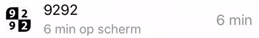name: (40, 2, 85, 19)
time: (41, 22, 78, 37)
